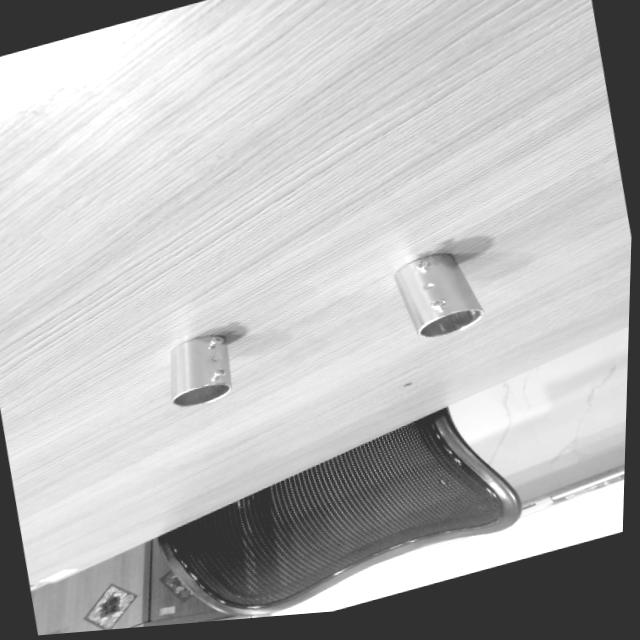Co_Lon: (388, 243, 486, 346)
Co_Nho: (163, 333, 234, 407)
